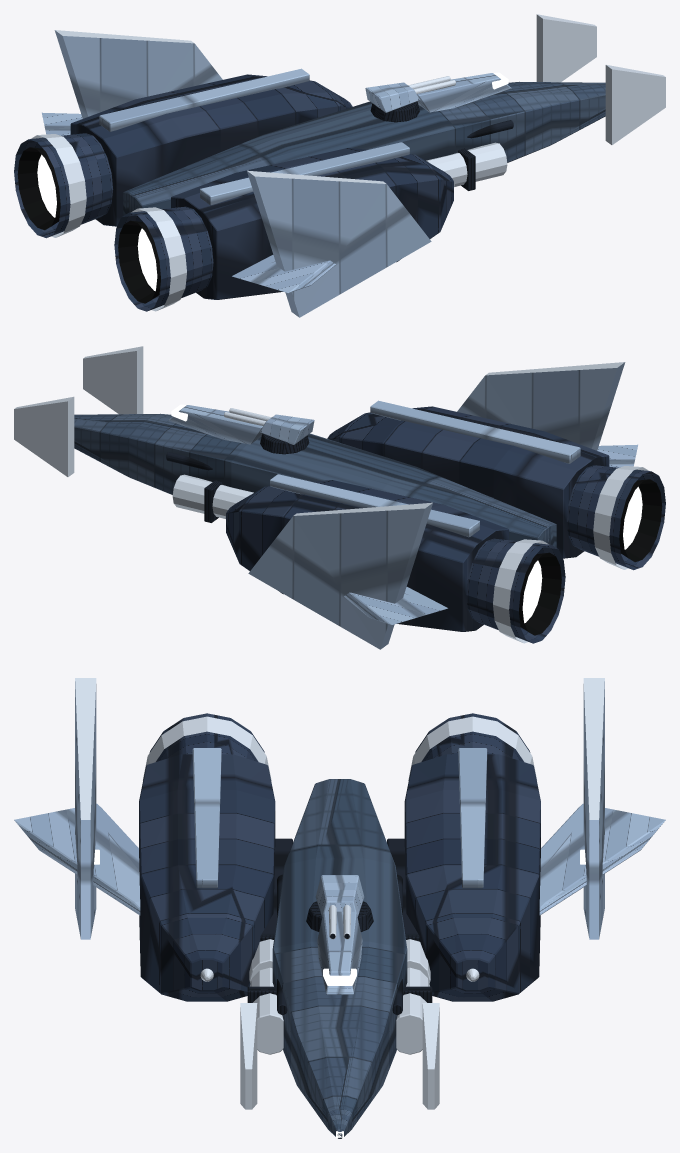
File: corvette.glb
3 views of the same model, one above another, from view 1: azimuth 30°, elevation 25°; view 2: azimuth 150°, elevation 25°; view 3: azimuth 270°, elevation 25° (orthographic). The views are drawn at different scales.
Parts seen in each view (by area): view 1: corvette; view 2: corvette; view 3: corvette.
Part boxes in pixels (box(x1,y1,x2,y2)): corvette: box(14, 14, 665, 317); corvette: box(14, 346, 665, 649); corvette: box(14, 678, 665, 1138).
Size of the model in its own units: 20 by 5.27 by 15.26.
1 material, 1 textured.
